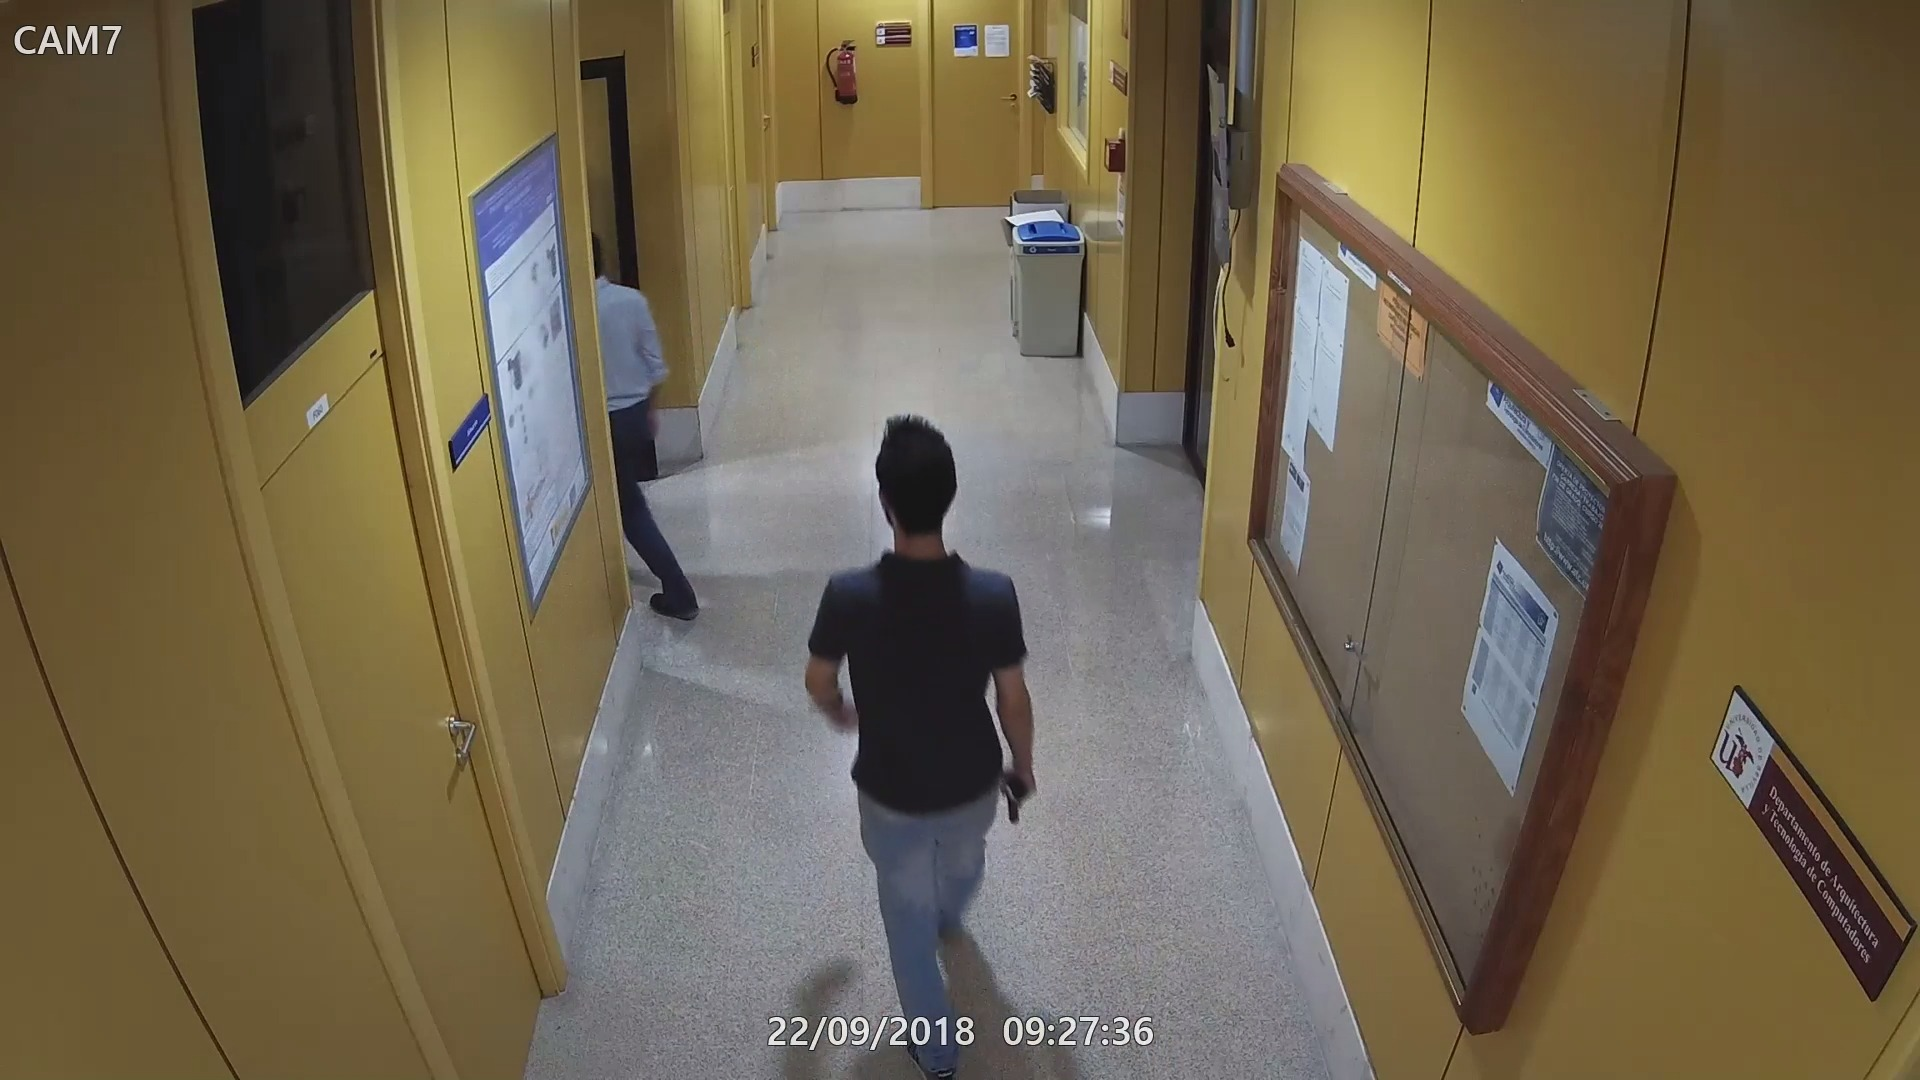Handgun: (1000, 766, 1033, 823)
